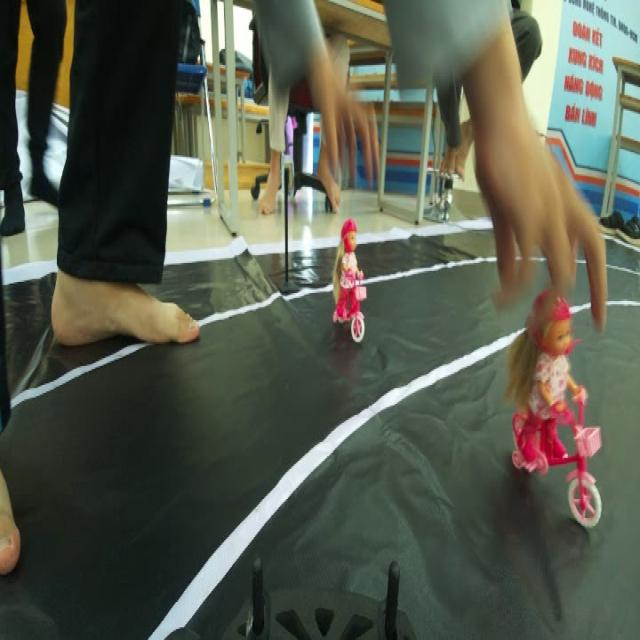pedestrian: (514, 290, 616, 550), (330, 214, 373, 342)
